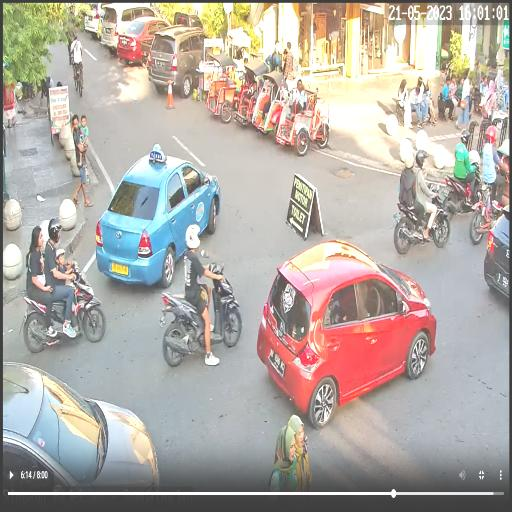mobil: (257, 238, 437, 427), (95, 142, 221, 289), (150, 24, 210, 97), (100, 3, 164, 64), (116, 14, 172, 62)
motor: (159, 252, 242, 386), (15, 248, 102, 359), (389, 179, 449, 248), (443, 161, 483, 216)
